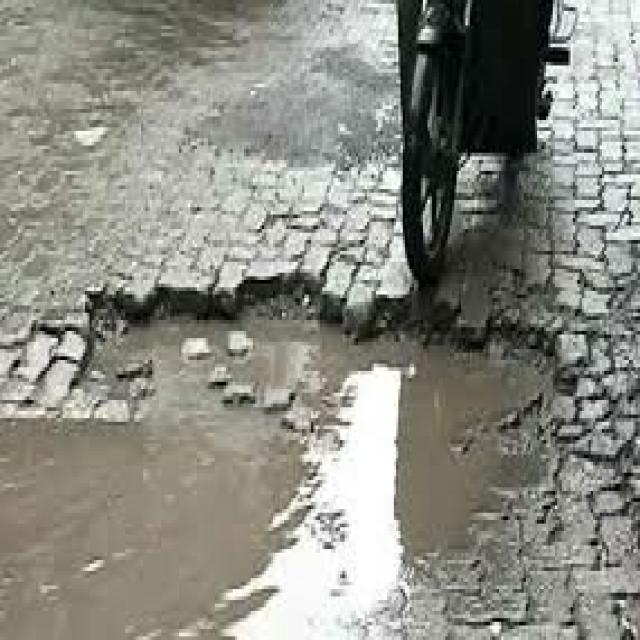Pothole: (11, 232, 610, 640)
